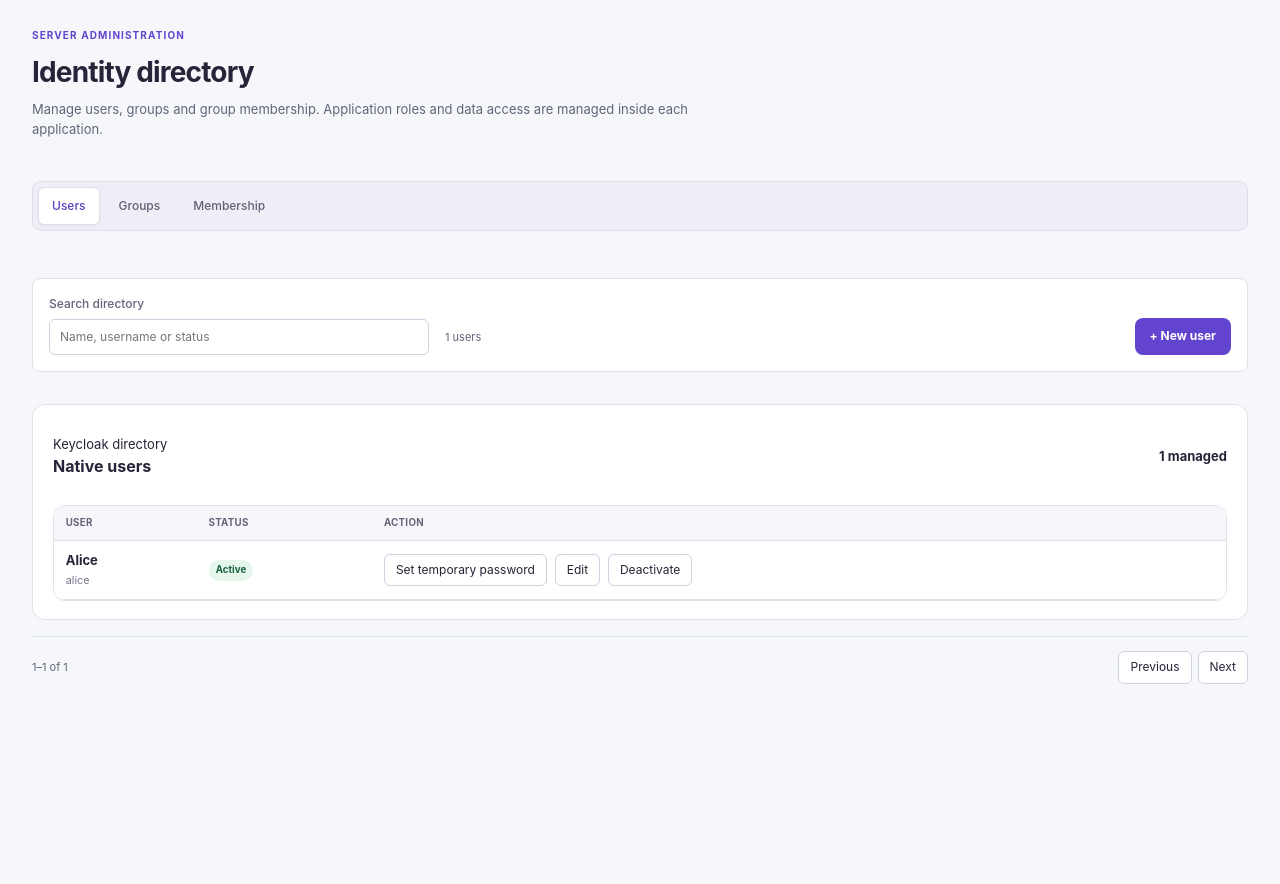
Test case: retries a missing directory receipt with the original packet and key
Check: the text "Alice" is shown, box [66,552,98,568]
Click the button "Deactivate".
click(650, 570)  # box [608,554,692,586]
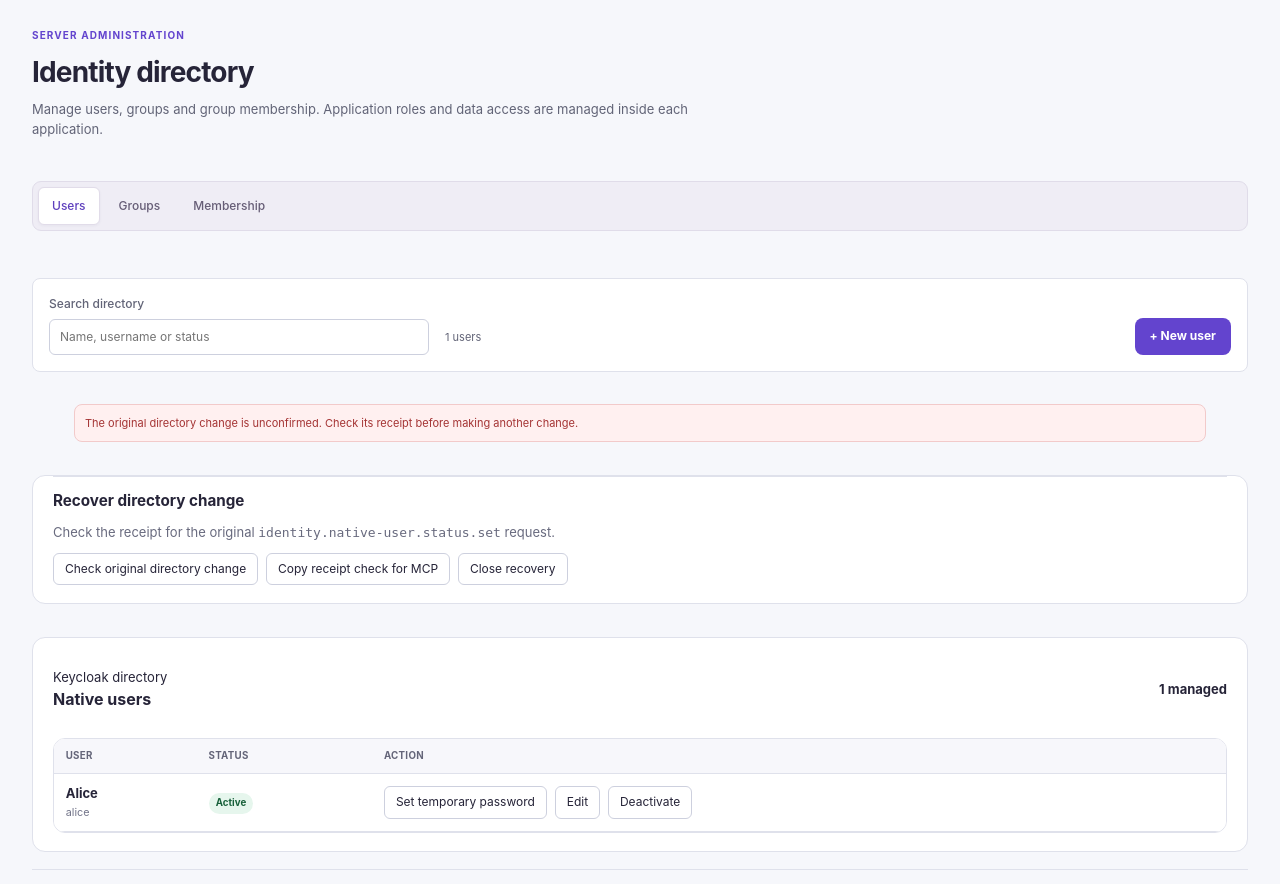
Check: the button "Retry original directory change" is not shown
Click the button "Check original directory change".
click(156, 569)  # box [53,553,258,585]
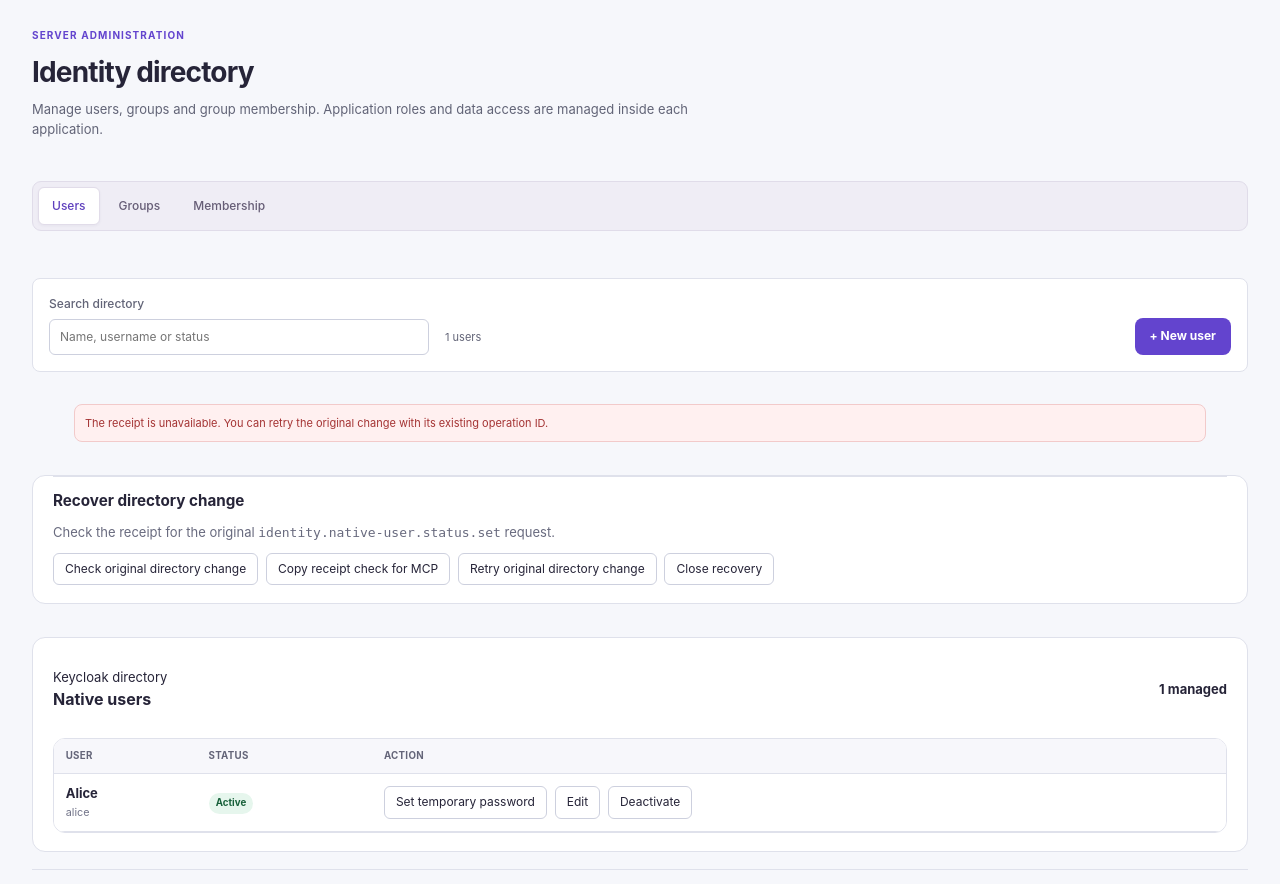
Click the button "Retry original directory change".
click(557, 569)  # box [458,553,657,585]
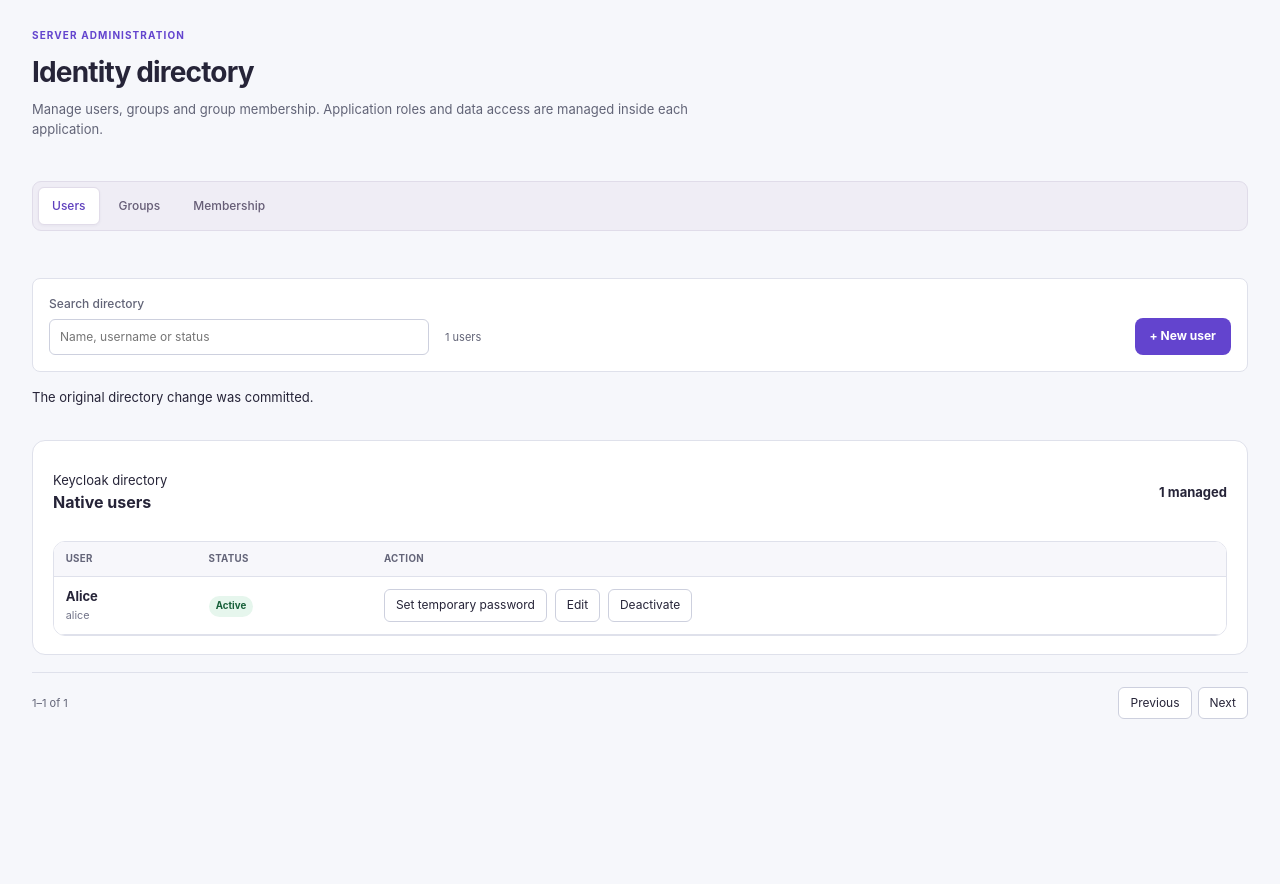
Check: the text "The original directory change was committed." is shown, box [32,389,314,405]
